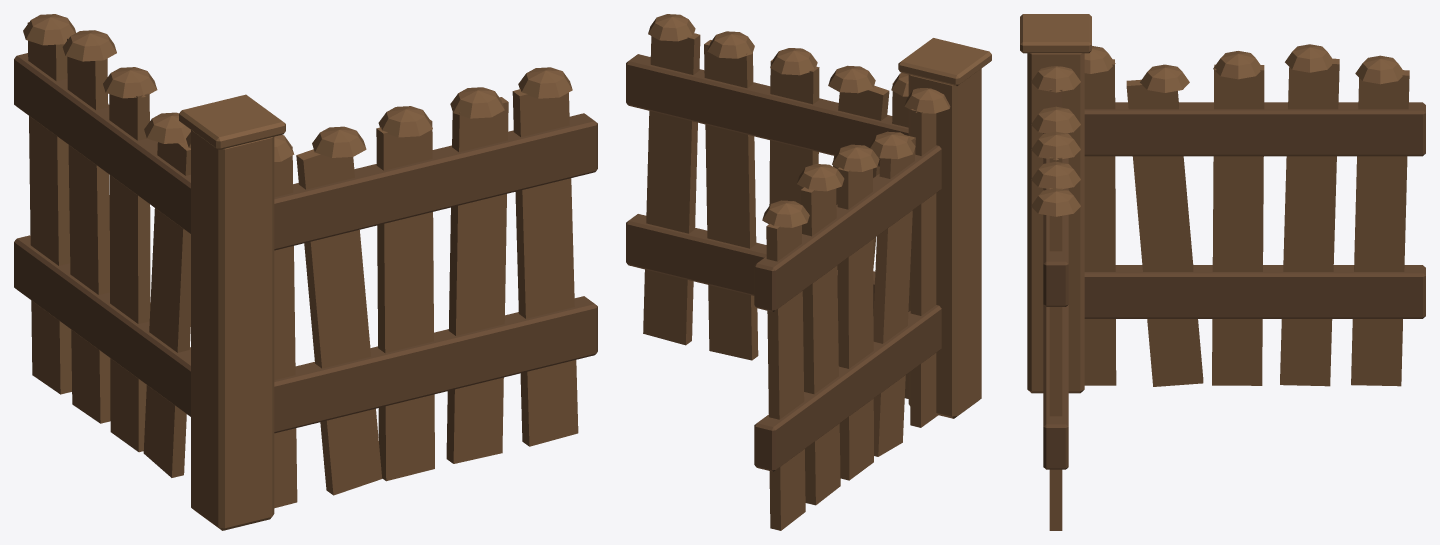
Rendered from SM_Fence_TavernPicket_02_Corner.fbx.
The picture shows the model from 3 angles, left to right: view 1: azimuth 30°, elevation 25°; view 2: azimuth 150°, elevation 25°; view 3: azimuth 270°, elevation 25°; orthographic projection. The views are drawn at different scales.
Parts seen in each view (by area): view 1: SM_Fence_TavernPicket_02_Corner_Post, SM_Fence_TavernPicket_02_Corner_X_RailTop, SM_Fence_TavernPicket_02_Corner_X_RailBot, SM_Fence_TavernPicket_02_Corner_X_Pk4, SM_Fence_TavernPicket_02_Corner_X_Pk3, SM_Fence_TavernPicket_02_Corner_X_Pk2, SM_Fence_TavernPicket_02_Corner_X_Pk1, SM_Fence_TavernPicket_02_Corner_Y_RailTop, SM_Fence_TavernPicket_02_Corner_Y_RailBot, SM_Fence_TavernPicket_02_Corner_Y_Pk3, SM_Fence_TavernPicket_02_Corner_Y_Pk2, SM_Fence_TavernPicket_02_Corner_Y_Pk4 (+11 smaller); view 2: SM_Fence_TavernPicket_02_Corner_Post, SM_Fence_TavernPicket_02_Corner_X_RailTop, SM_Fence_TavernPicket_02_Corner_X_Pk4, SM_Fence_TavernPicket_02_Corner_X_Pk3, SM_Fence_TavernPicket_02_Corner_Y_RailTop, SM_Fence_TavernPicket_02_Corner_Y_RailBot, SM_Fence_TavernPicket_02_Corner_Y_Pk3, SM_Fence_TavernPicket_02_Corner_Y_Pk4, SM_Fence_TavernPicket_02_Corner_Y_Pk2, SM_Fence_TavernPicket_02_Corner_Y_Pk1, SM_Fence_TavernPicket_02_Corner_X_RailBot, SM_Fence_TavernPicket_02_Corner_Y_Pk0 (+13 smaller); view 3: SM_Fence_TavernPicket_02_Corner_Y_RailTop, SM_Fence_TavernPicket_02_Corner_Y_RailBot, SM_Fence_TavernPicket_02_Corner_Y_Pk3, SM_Fence_TavernPicket_02_Corner_Y_Pk2, SM_Fence_TavernPicket_02_Corner_Y_Pk4, SM_Fence_TavernPicket_02_Corner_Y_Pk1, SM_Fence_TavernPicket_02_Corner_Post, SM_Fence_TavernPicket_02_Corner_Y_Pk0, SM_Fence_TavernPicket_02_Corner_X_RailBot, SM_Fence_TavernPicket_02_Corner_X_Pk4, SM_Fence_TavernPicket_02_Corner_Post_Cap, SM_Fence_TavernPicket_02_Corner_X_RailTop (+10 smaller).
Boxes of the visible parts, box(x1,y1,x2,y2) form: SM_Fence_TavernPicket_02_Corner_Post: box(191, 130, 274, 530); SM_Fence_TavernPicket_02_Corner_X_RailTop: box(274, 113, 597, 250); SM_Fence_TavernPicket_02_Corner_X_RailBot: box(274, 296, 597, 433); SM_Fence_TavernPicket_02_Corner_X_Pk4: box(512, 89, 578, 446); SM_Fence_TavernPicket_02_Corner_X_Pk3: box(446, 97, 508, 463); SM_Fence_TavernPicket_02_Corner_X_Pk2: box(376, 119, 434, 481); SM_Fence_TavernPicket_02_Corner_X_Pk1: box(296, 149, 382, 495); SM_Fence_TavernPicket_02_Corner_Y_RailTop: box(14, 53, 190, 233); SM_Fence_TavernPicket_02_Corner_Y_RailBot: box(14, 235, 190, 416); SM_Fence_TavernPicket_02_Corner_Y_Pk3: box(67, 38, 110, 423); SM_Fence_TavernPicket_02_Corner_Y_Pk2: box(109, 92, 150, 452); SM_Fence_TavernPicket_02_Corner_Y_Pk4: box(27, 22, 71, 394); SM_Fence_TavernPicket_02_Corner_Post: box(908, 68, 981, 418); SM_Fence_TavernPicket_02_Corner_X_RailTop: box(626, 54, 908, 166); SM_Fence_TavernPicket_02_Corner_X_Pk4: box(643, 33, 700, 345); SM_Fence_TavernPicket_02_Corner_X_Pk3: box(704, 40, 758, 360); SM_Fence_TavernPicket_02_Corner_Y_RailTop: box(754, 145, 941, 311); SM_Fence_TavernPicket_02_Corner_Y_RailBot: box(754, 305, 941, 471); SM_Fence_TavernPicket_02_Corner_Y_Pk3: box(800, 187, 840, 505); SM_Fence_TavernPicket_02_Corner_Y_Pk4: box(766, 224, 805, 530); SM_Fence_TavernPicket_02_Corner_Y_Pk2: box(837, 167, 873, 480); SM_Fence_TavernPicket_02_Corner_Y_Pk1: box(873, 135, 915, 456); SM_Fence_TavernPicket_02_Corner_X_RailBot: box(626, 214, 908, 315); SM_Fence_TavernPicket_02_Corner_Y_Pk0: box(910, 109, 938, 427); SM_Fence_TavernPicket_02_Corner_Y_RailTop: box(1084, 102, 1425, 156); SM_Fence_TavernPicket_02_Corner_Y_RailBot: box(1084, 265, 1425, 318); SM_Fence_TavernPicket_02_Corner_Y_Pk3: box(1280, 58, 1339, 386); SM_Fence_TavernPicket_02_Corner_Y_Pk2: box(1212, 64, 1264, 385); SM_Fence_TavernPicket_02_Corner_Y_Pk4: box(1351, 70, 1409, 386); SM_Fence_TavernPicket_02_Corner_Y_Pk1: box(1126, 79, 1203, 386); SM_Fence_TavernPicket_02_Corner_Post: box(1027, 53, 1084, 393); SM_Fence_TavernPicket_02_Corner_Y_Pk0: box(1084, 59, 1116, 385); SM_Fence_TavernPicket_02_Corner_X_RailBot: box(1043, 305, 1068, 469); SM_Fence_TavernPicket_02_Corner_X_Pk4: box(1049, 216, 1062, 530); SM_Fence_TavernPicket_02_Corner_Post_Cap: box(1020, 14, 1091, 53); SM_Fence_TavernPicket_02_Corner_X_RailTop: box(1043, 133, 1068, 306).
Size of the model in its own units: 1.13 by 1.1 by 1.13.
